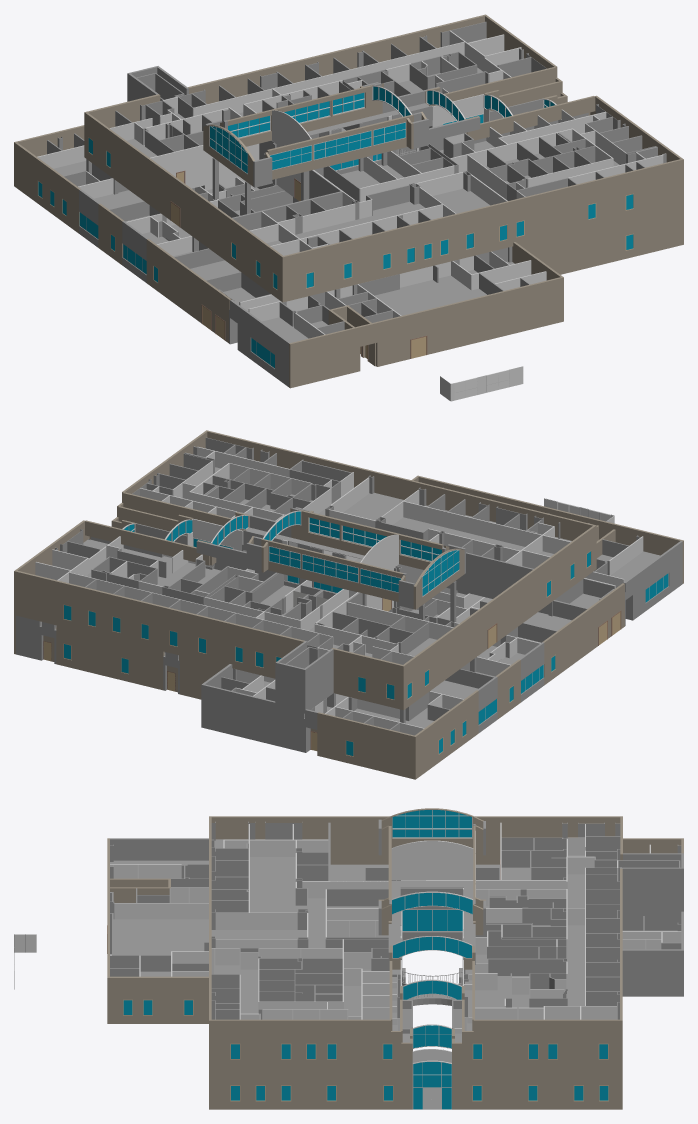
Rendered from clinic-draco.gltf.
The picture shows the model from 3 angles, top to bottom: view 1: azimuth 30°, elevation 25°; view 2: azimuth 150°, elevation 25°; view 3: azimuth 270°, elevation 25°; orthographic projection. The views are drawn at different scales.
Size of the model in its own units: 52.67 by 14.76 by 66.1.
